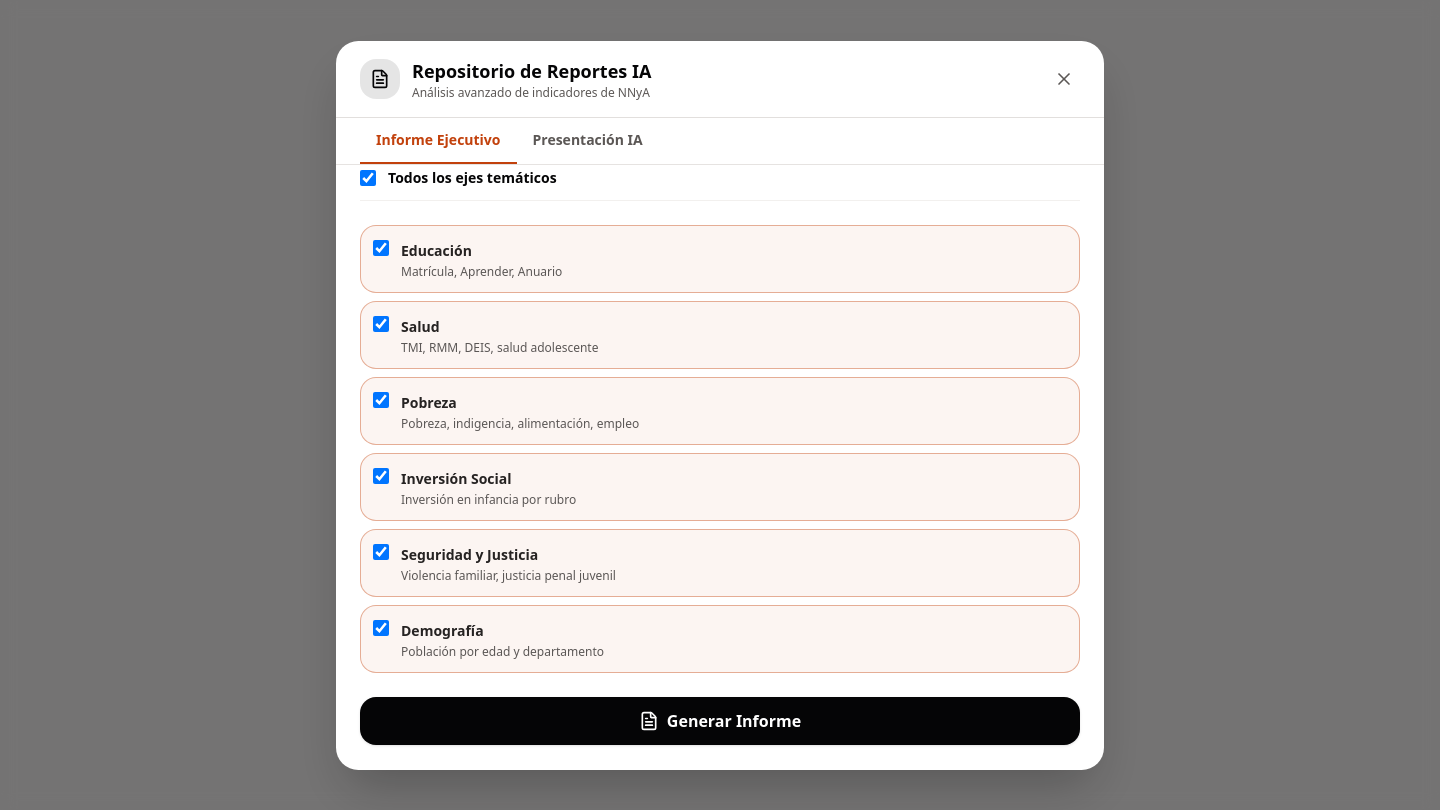
it: ReportModal › shows print button after generation
This screenshot has width=1440, height=810.
(page scrolled)
Click the button "Generar Informe": click(720, 721) [360,697,1080,745]
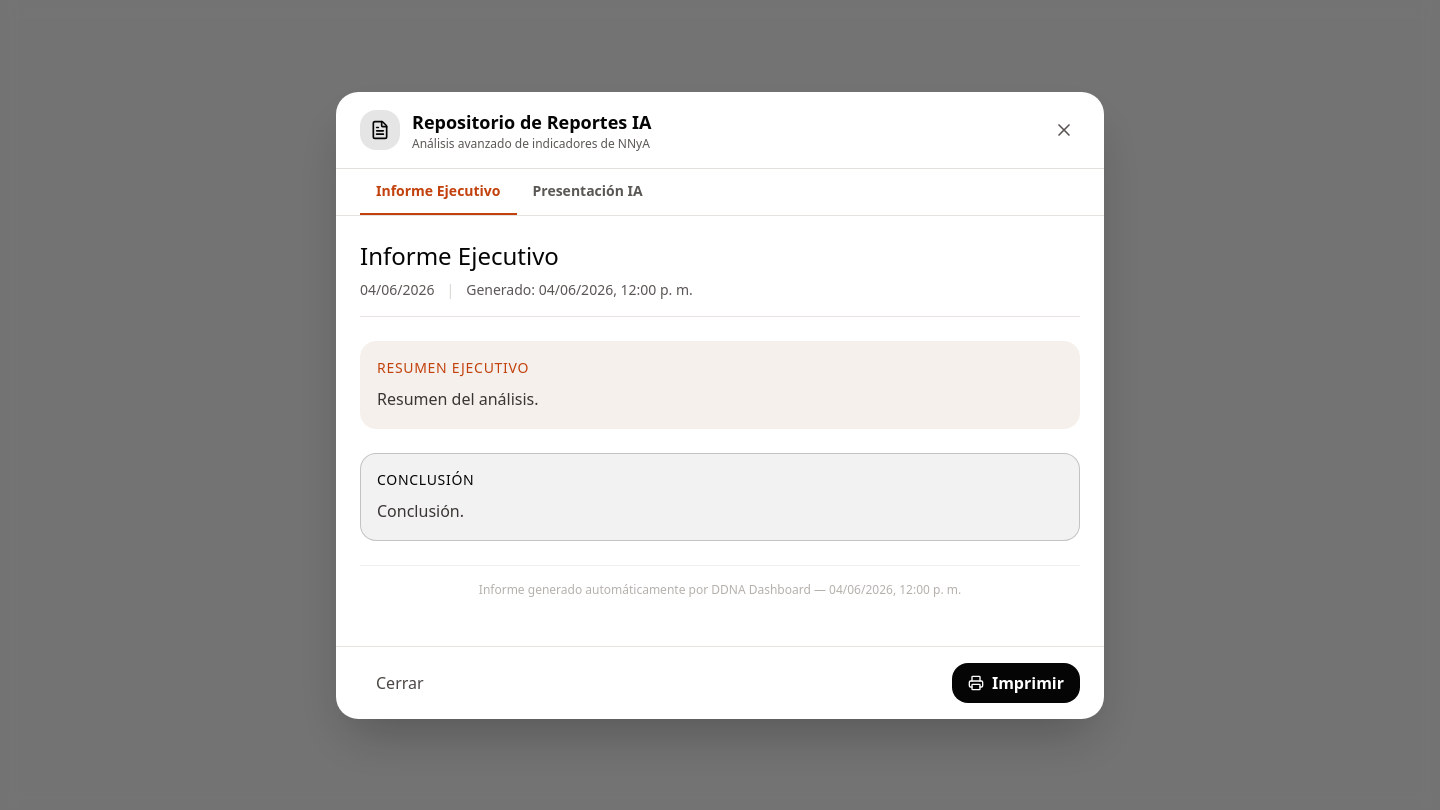
Check: the button "Imprimir" is shown, box [952,662,1080,702]
